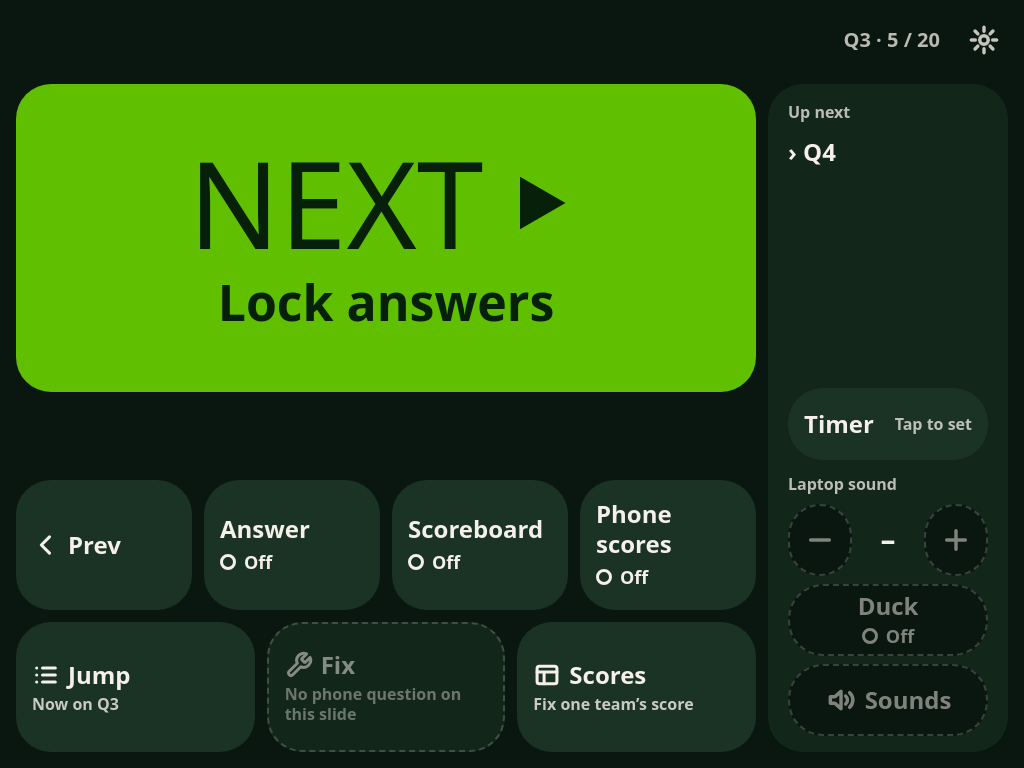
/remote timer tile › idle: a Timer button that opens the drawer, 56px+ tall
Click the button "Timer Tap to set": (888, 424) [788,388,988,460]
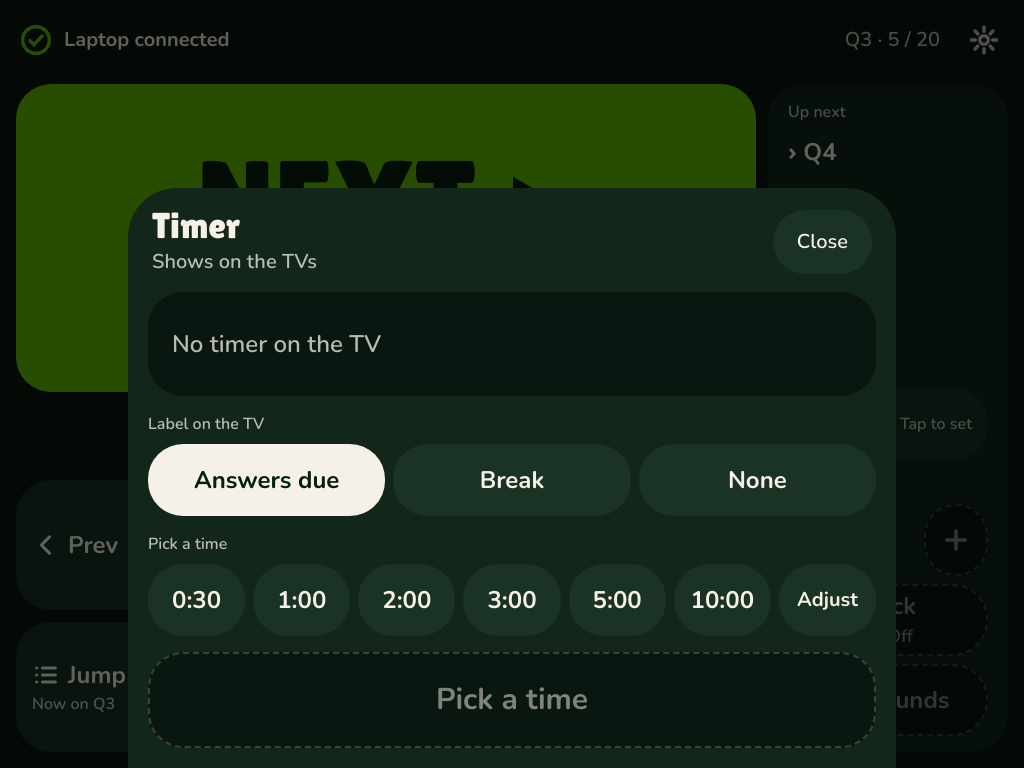
Result: the dialog shows "Timer" at [152,205,240,246]
